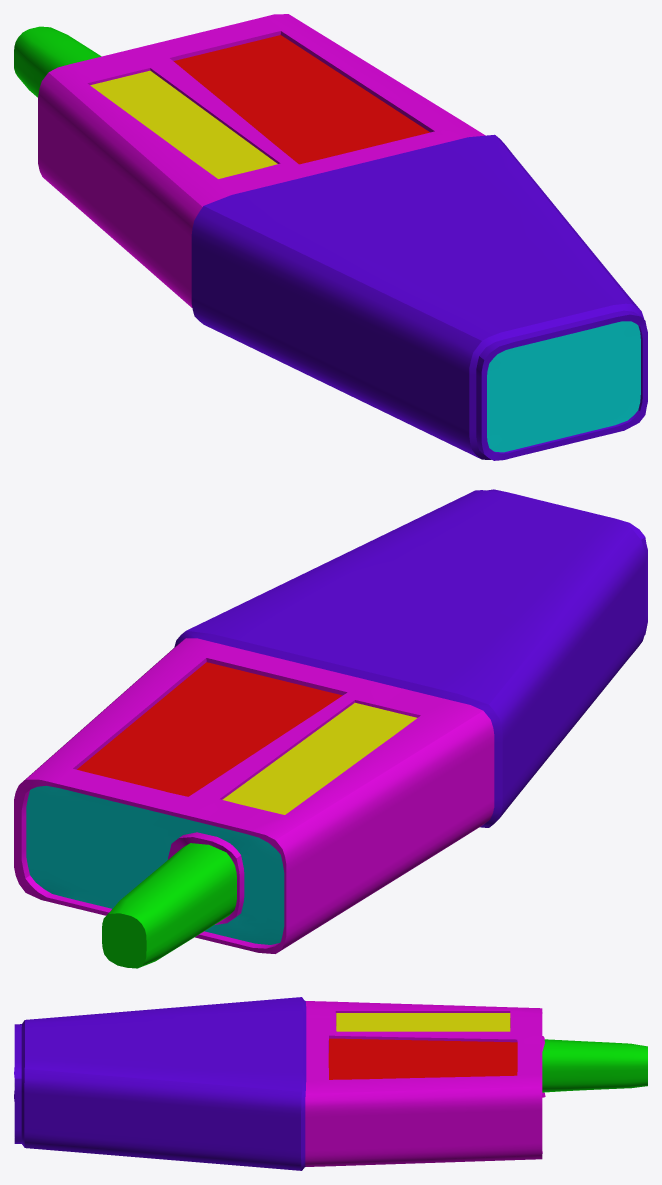
The model's file is emf_reader.fbx.
3 renders of one model, top to bottom at view 1: azimuth 30°, elevation 25°; view 2: azimuth 150°, elevation 25°; view 3: azimuth 270°, elevation 25°, orthographic. The views are drawn at different scales.
Parts seen in each view (by area): view 1: pCube2_Original; view 2: pCube2_Original; view 3: pCube2_Original.
Part boxes in pixels (left/top/right/bottom): pCube2_Original: left=14, top=14, right=647, bottom=460; pCube2_Original: left=14, top=489, right=647, bottom=968; pCube2_Original: left=14, top=997, right=647, bottom=1170.
Size of the model in its own units: 2.87 by 1.09 by 7.46.
